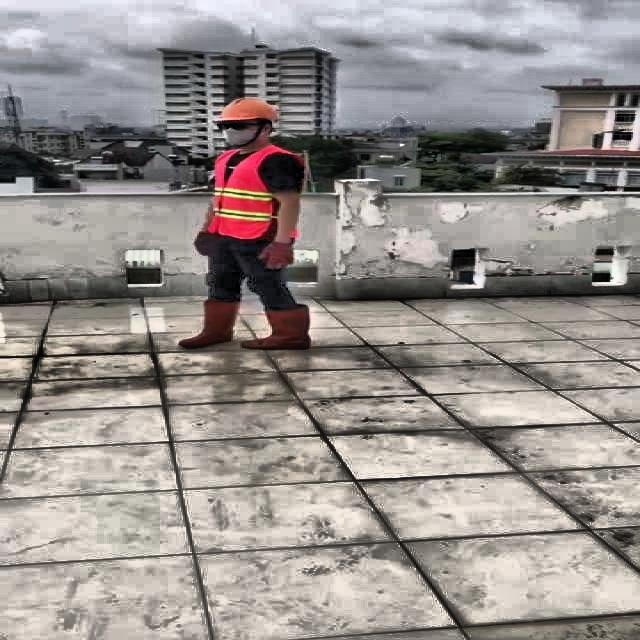safety_helmet: (210, 92, 282, 127)
safety_jacket: (208, 149, 283, 236)
